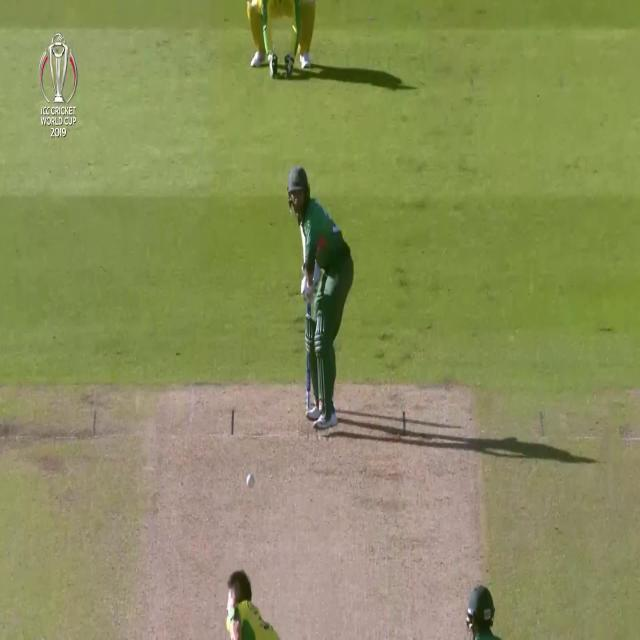ball: (244, 471, 257, 490)
